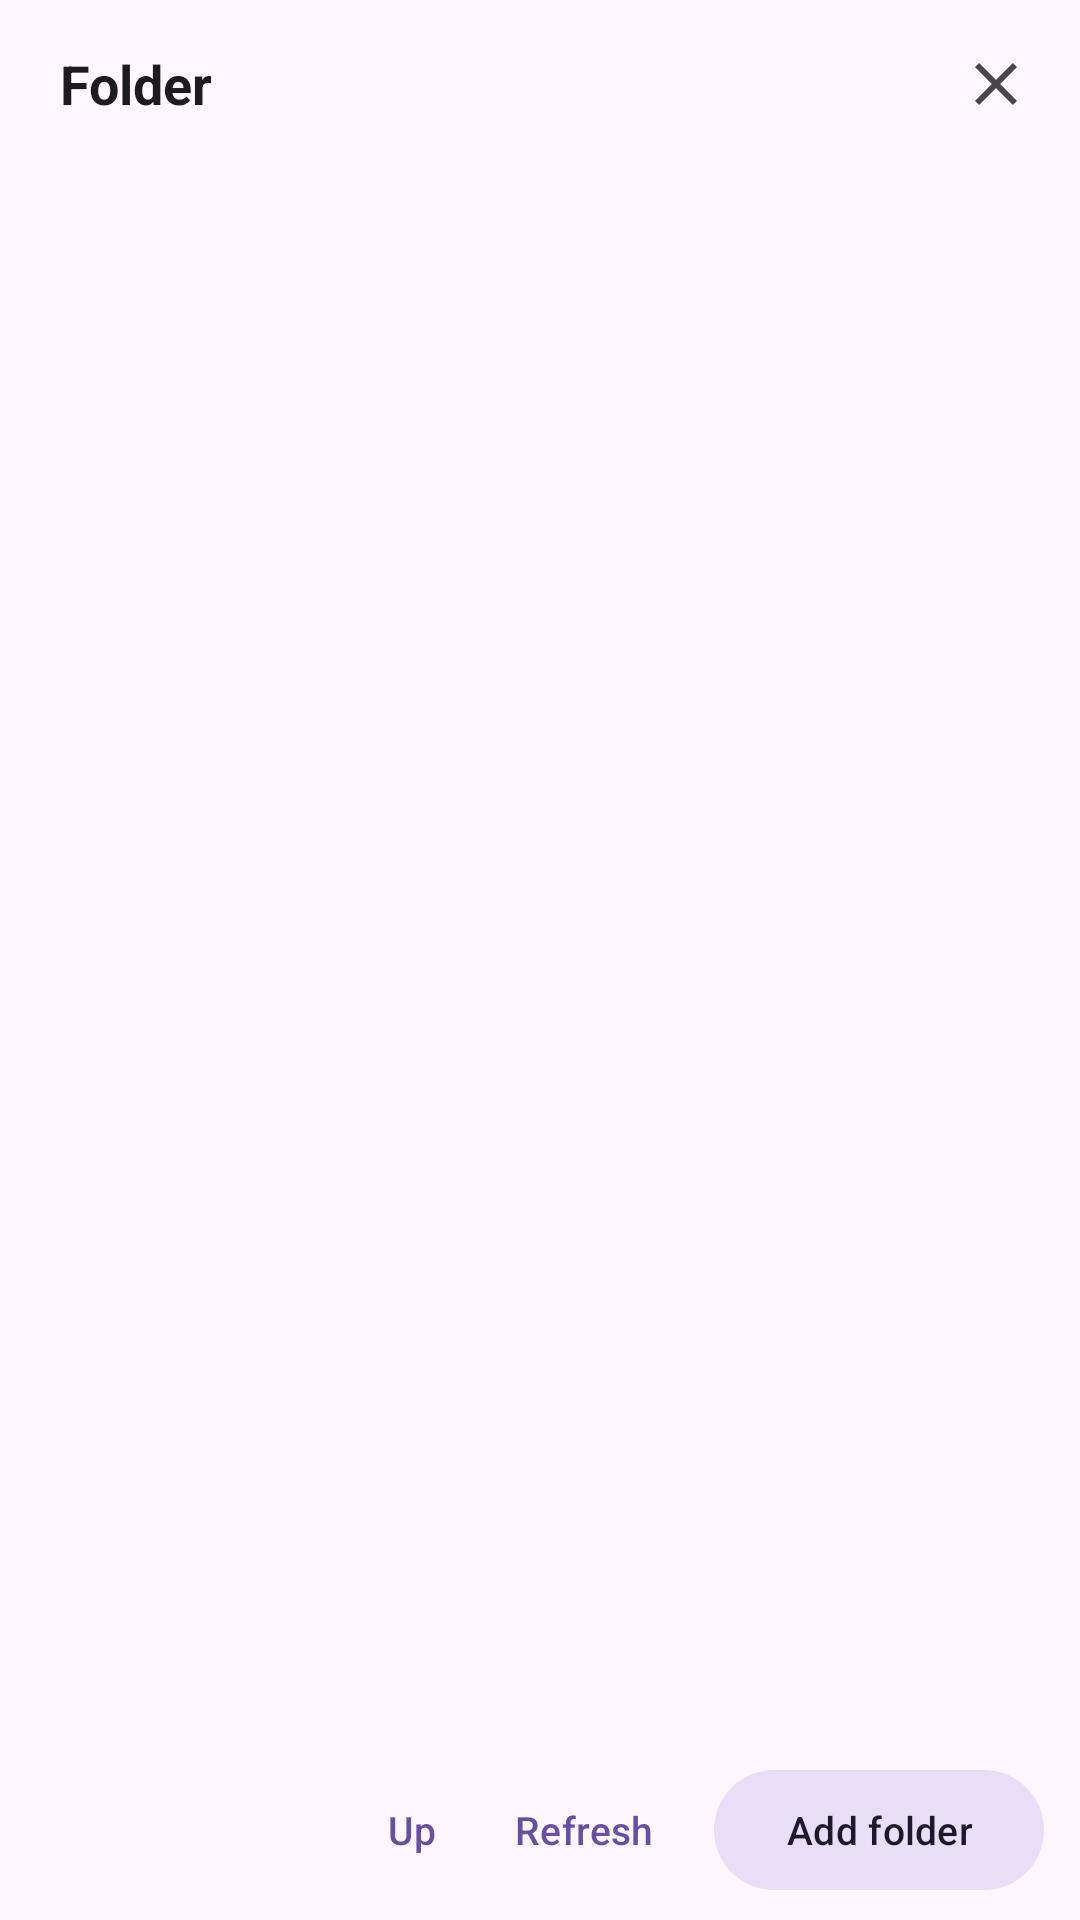

Icons on this 1080px×1920px Android screen, each with the point to tap as (x,y):
Close: (996,84)
